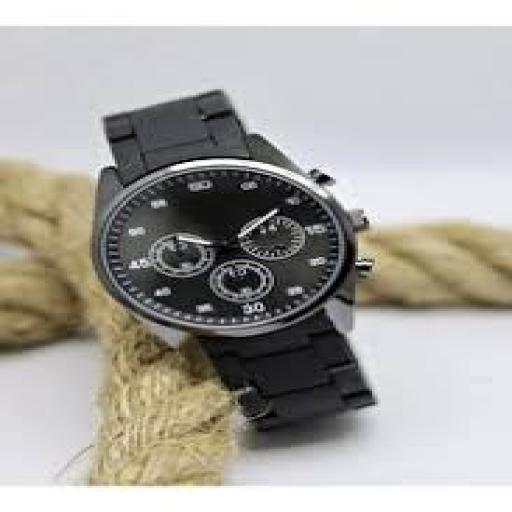KolSaati: (71, 78, 419, 436)
